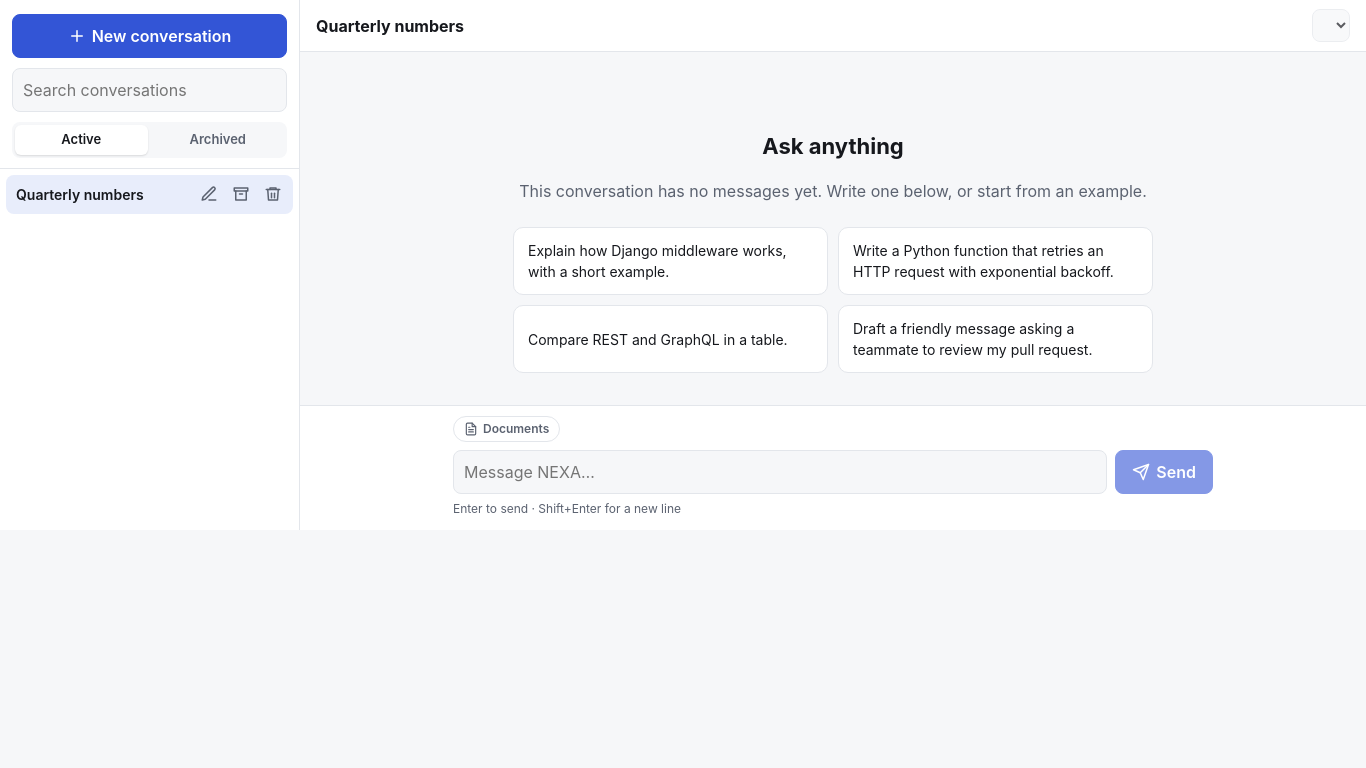
ChatPage answering from documents › explains a 409 in the composer, names the documents still being indexed and puts the question back
Click the button "Documents" at x=507, y=429, box [453,416,560,442]
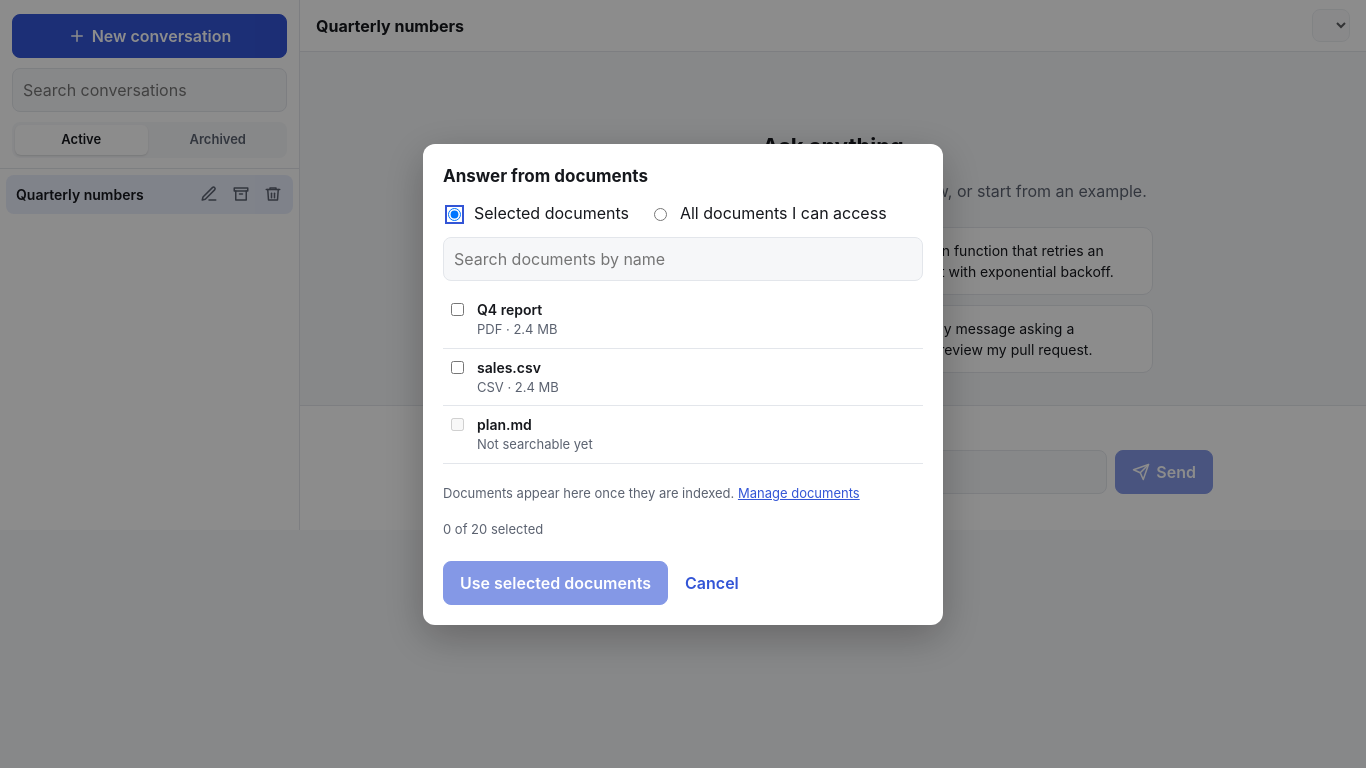
Click the checkbox labelled "Q4 report PDF · 2.4 MB" at x=458, y=310, box [451,303,464,316]
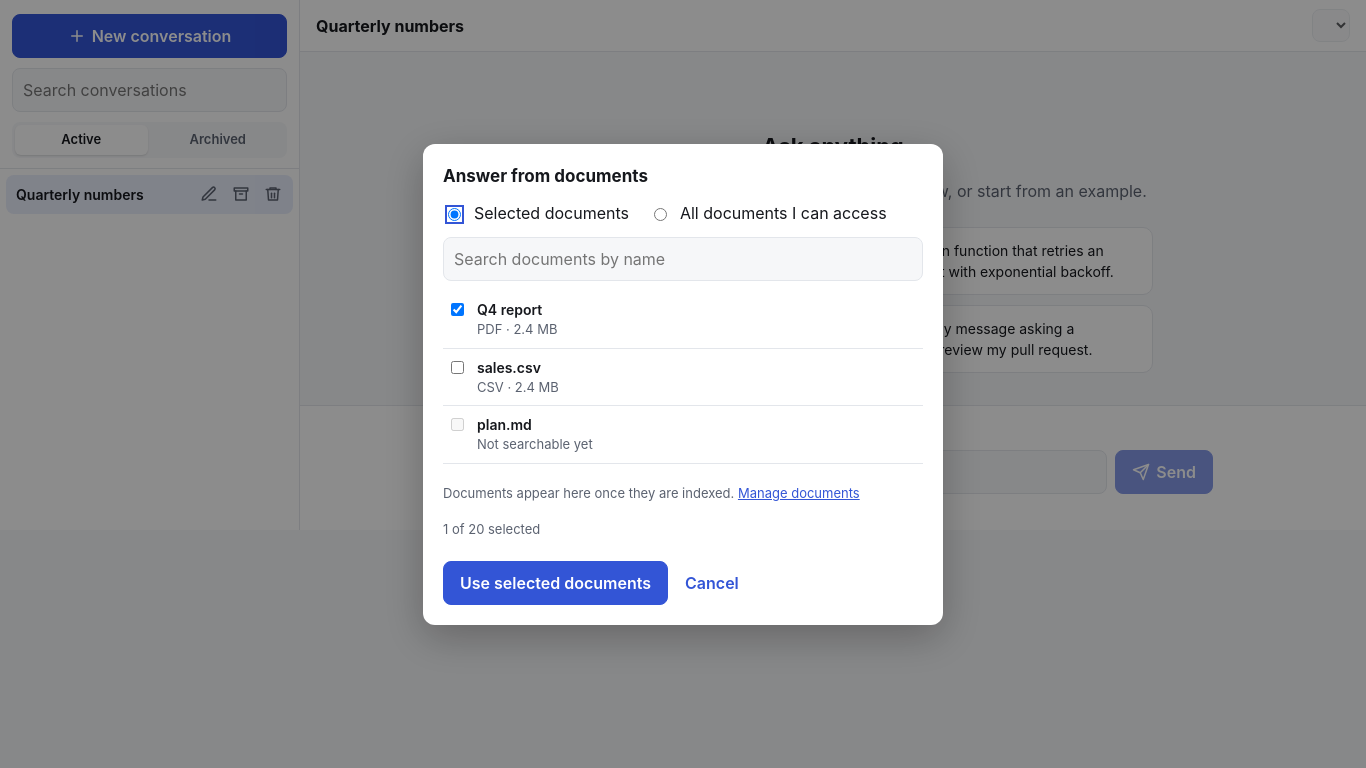
Click the checkbox labelled "sales.csv CSV · 2.4 MB" at x=458, y=367, box [451,360,464,374]
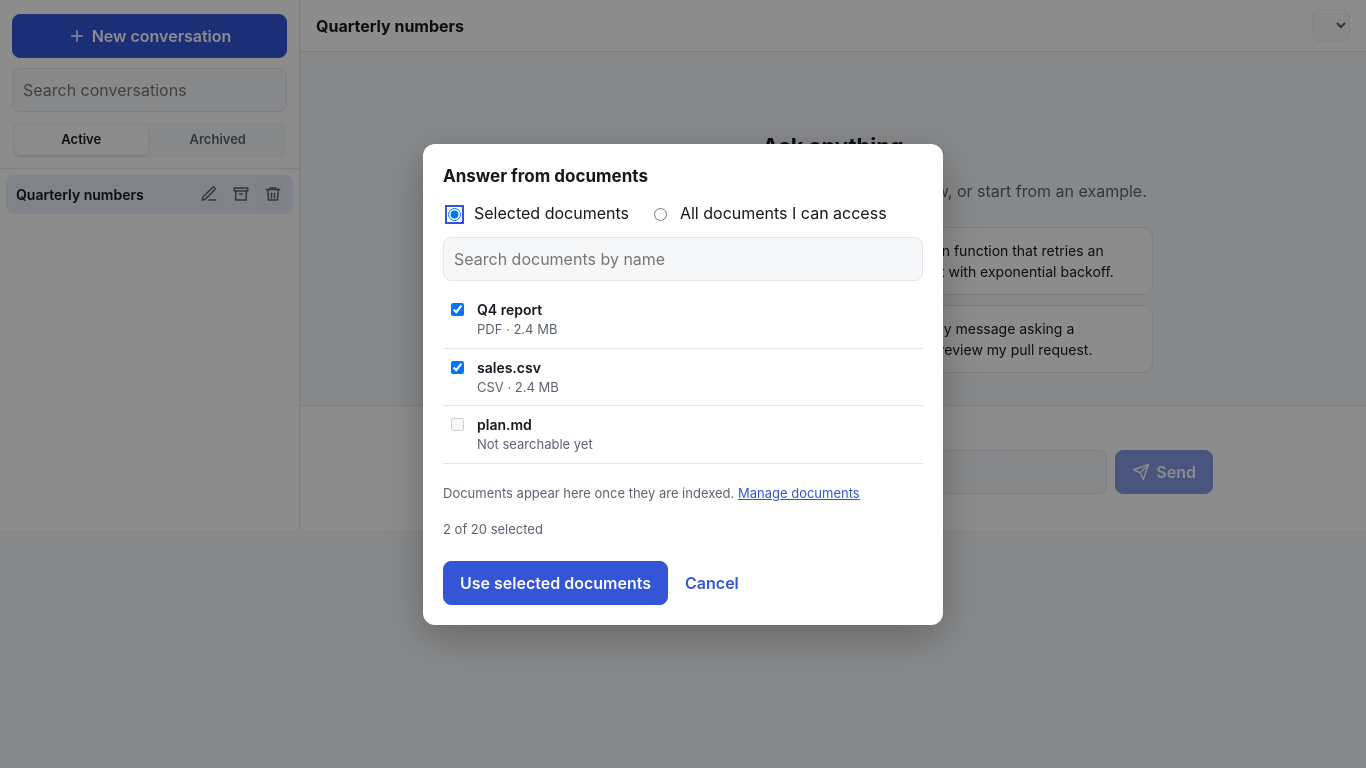
Click the button "Use selected documents" at x=556, y=582, box [443,560,668,604]
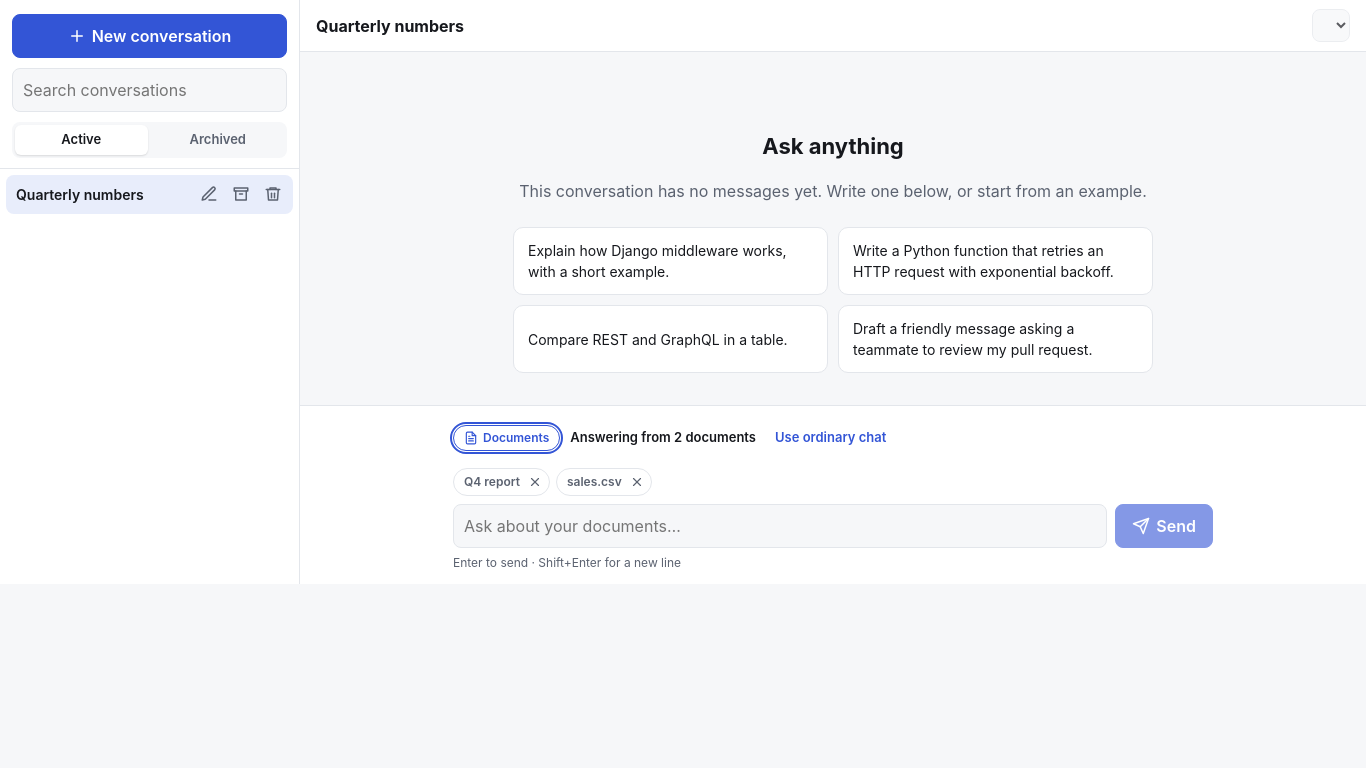
Type "How did revenue do?" into the text box named "Message" at x=780, y=526, box [453,504,1107,548]
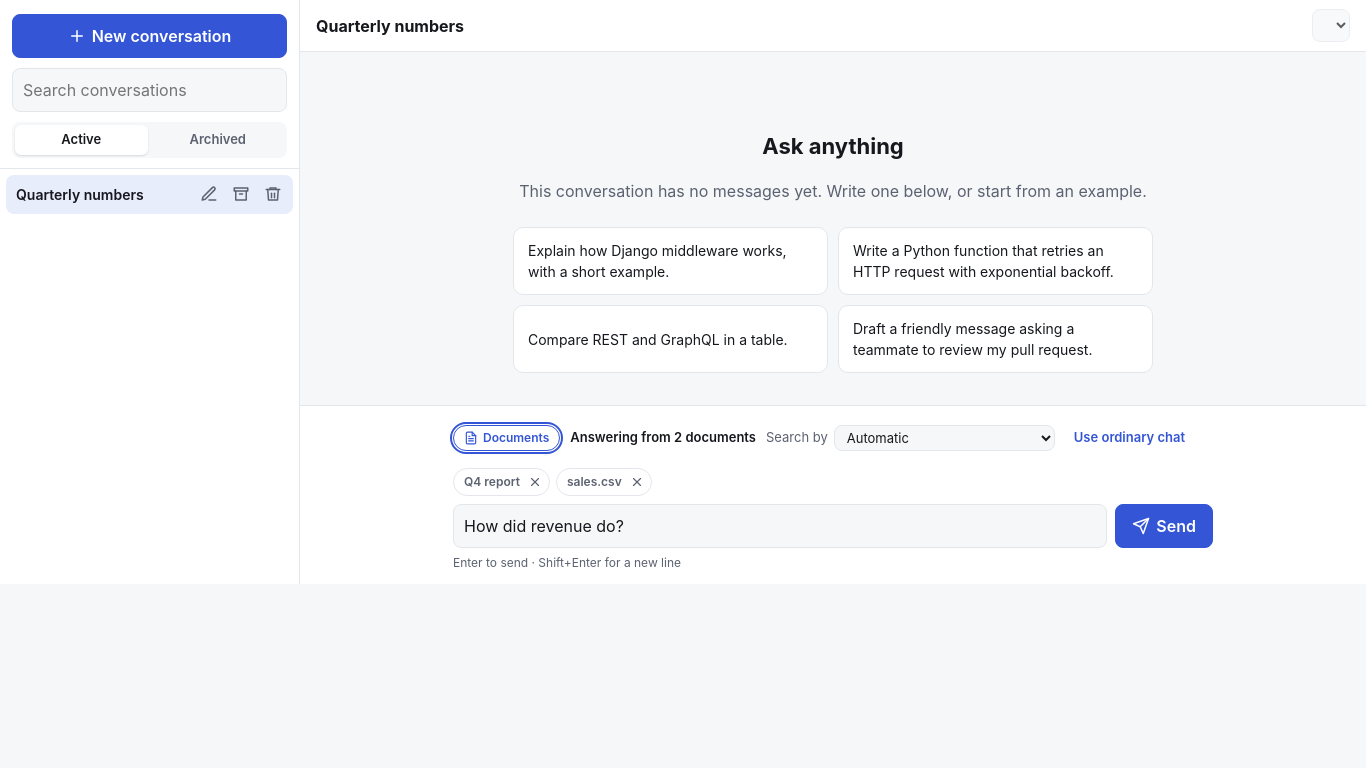
Click the button "Send" at x=1164, y=526, box [1115,504,1213,548]
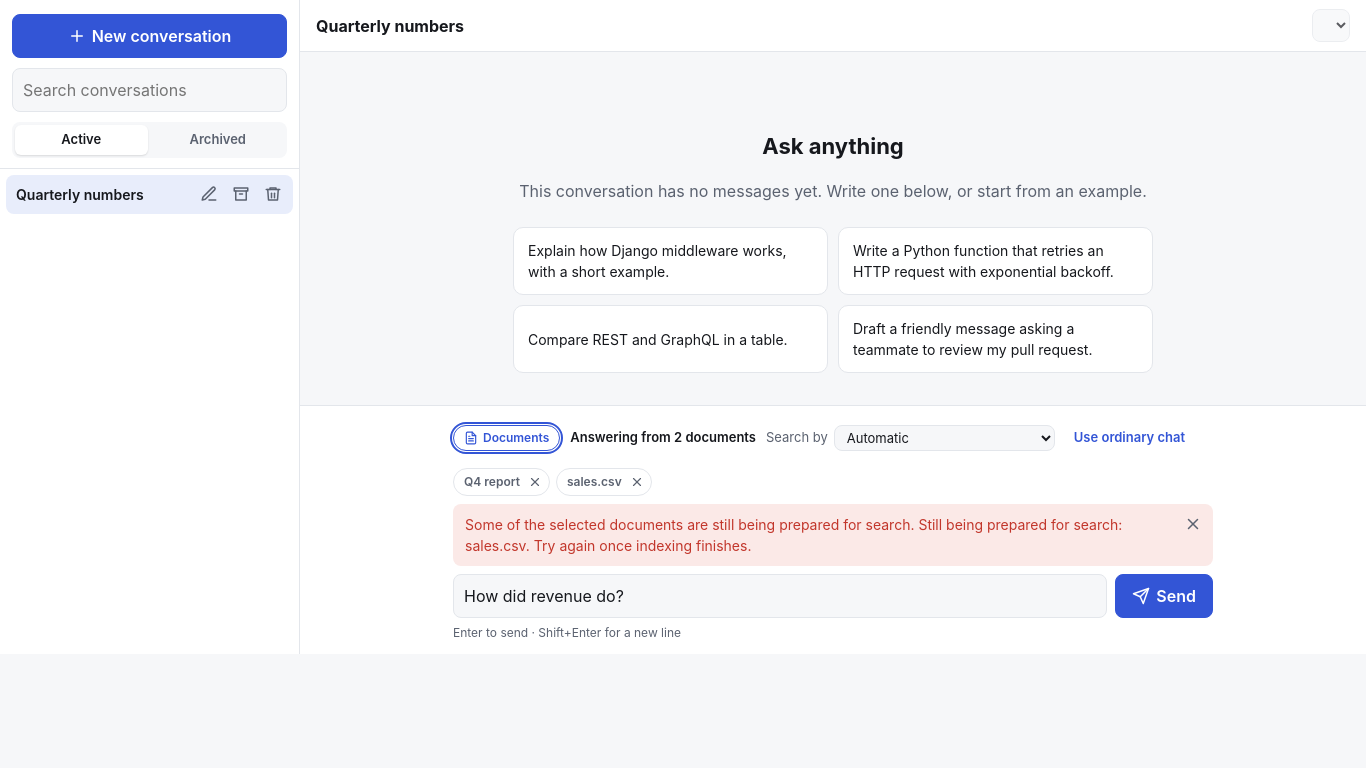
Check: the text "Answering from 2 documents" is shown, box [570,428,756,448]
Check: the message shows "Some of the selected documents are still being prepared for search. Still being prepared for search: sales.csv. Try again once indexing finishes.", box [465,516,1122,554]
